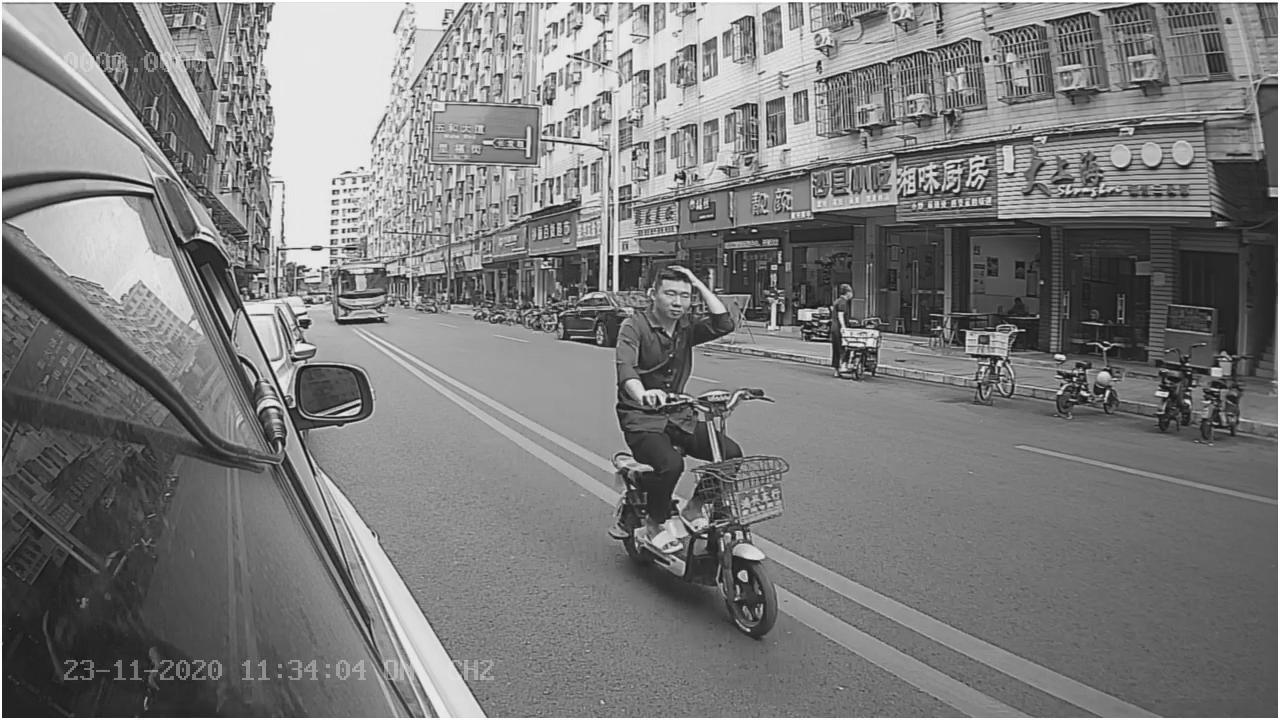person: (605, 261, 731, 401)
